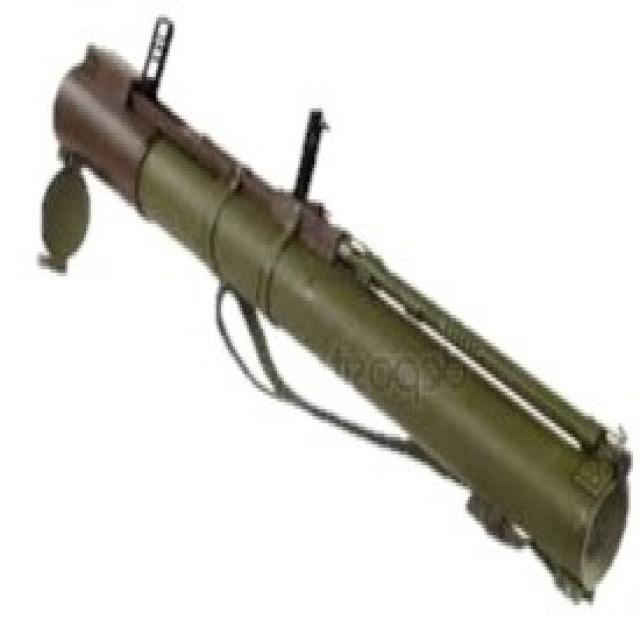bazooka: (23, 8, 637, 619)
